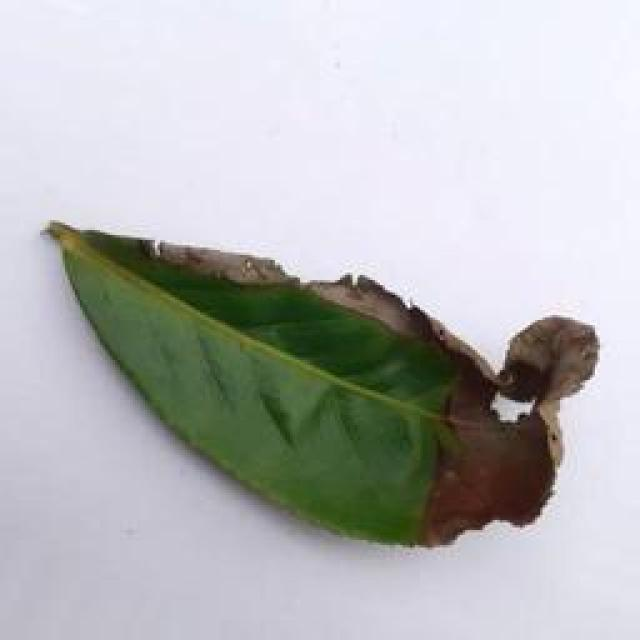Brown Blight: (18, 176, 605, 555)
